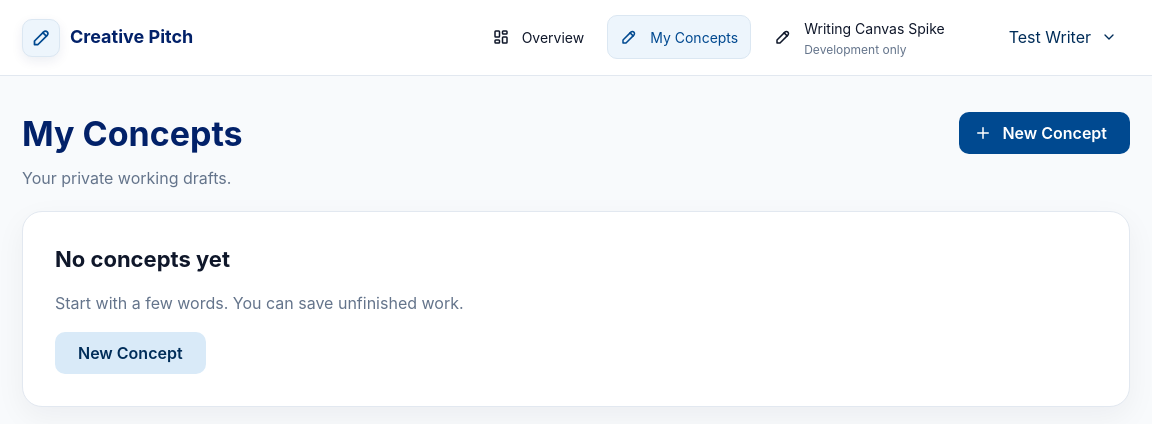
Test: restores the session, checks /me, ignores forged role metadata, and cleans subscriptions under StrictMode
This screenshot has width=1152, height=424.
Expected: the heading "My Concepts" is shown, [22,112,243,156]
What coordinates should you click on to do the following:
click the button with aria-label "Account menu"
I would click on:
 (1060, 38)
Its box is [990,20,1130,56].
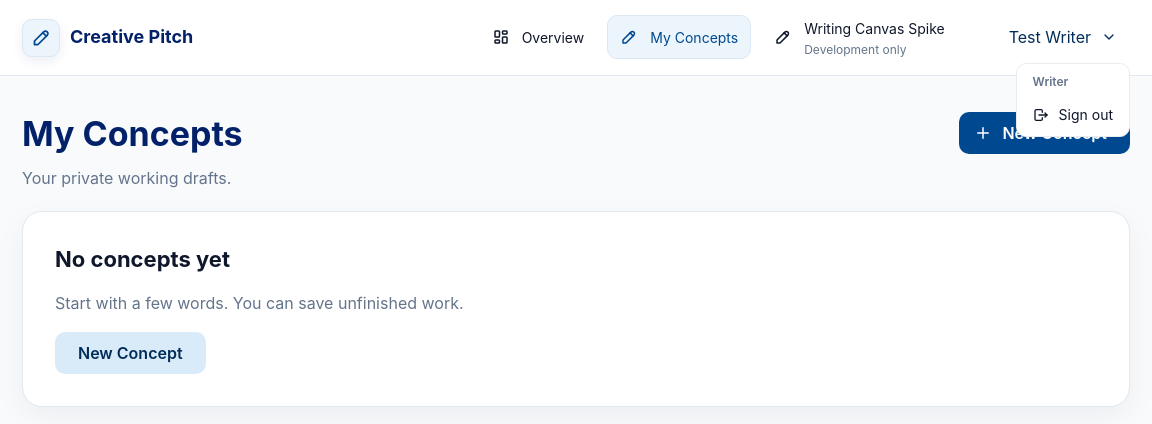
Result: the text "Writer" is shown at [1033,74,1068,90]
